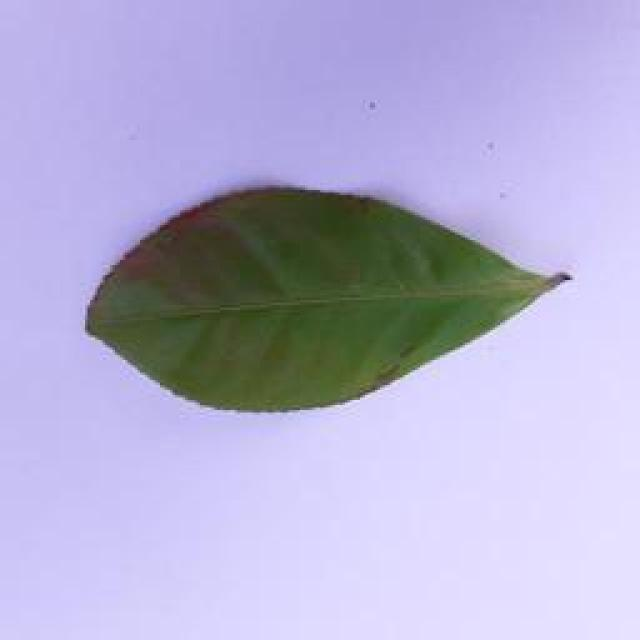Red Leaf Spot: (39, 167, 576, 438)
